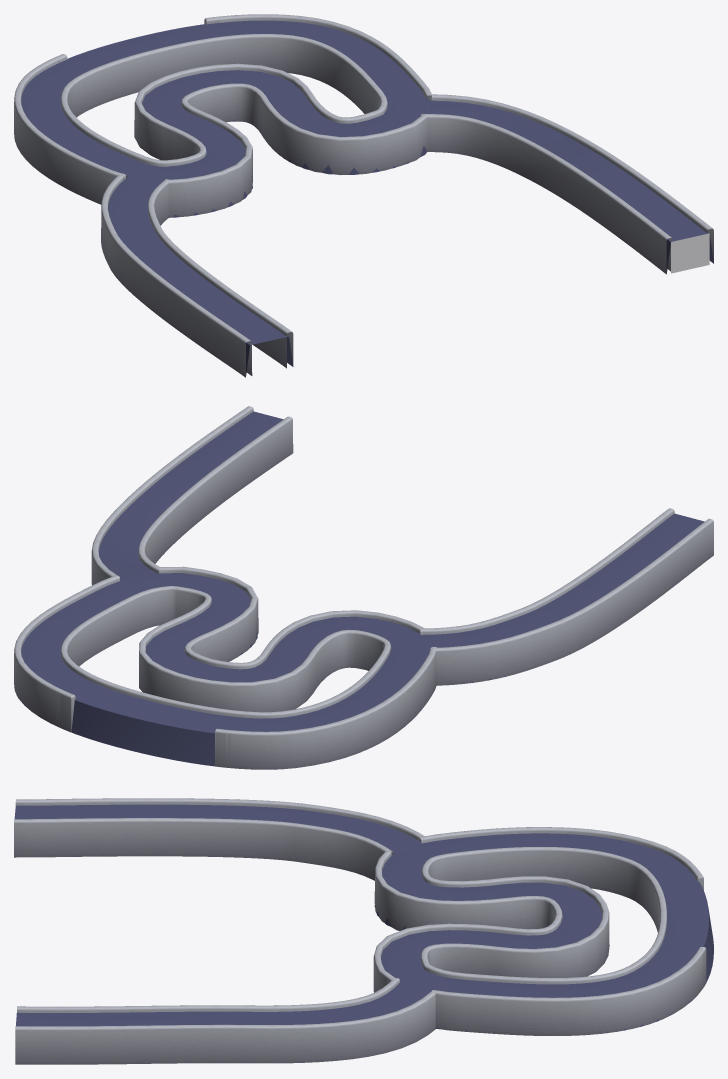
Rendered from Level (1).fbx.
3 views of the same model, one above another, from view 1: azimuth 30°, elevation 25°; view 2: azimuth 150°, elevation 25°; view 3: azimuth 270°, elevation 25° (orthographic).
Parts seen in each view (by area): view 1: Level__1_, Path, Path_2; view 2: Level__1_, Path_2, Path; view 3: Level__1_, Path, Path_2.
Boxes of the visible parts, x1,y1,x2,y2 form: Level__1_: (14,14,432,217); Path: (421,94,713,274); Path_2: (101,173,293,377); Level__1_: (14,566,436,769); Path_2: (419,508,713,685); Path: (91,406,293,585); Level__1_: (373,827,713,1035); Path: (15,978,435,1064); Path_2: (14,798,426,880).
Size of the model in its own units: 2339 by 187 by 2988.
